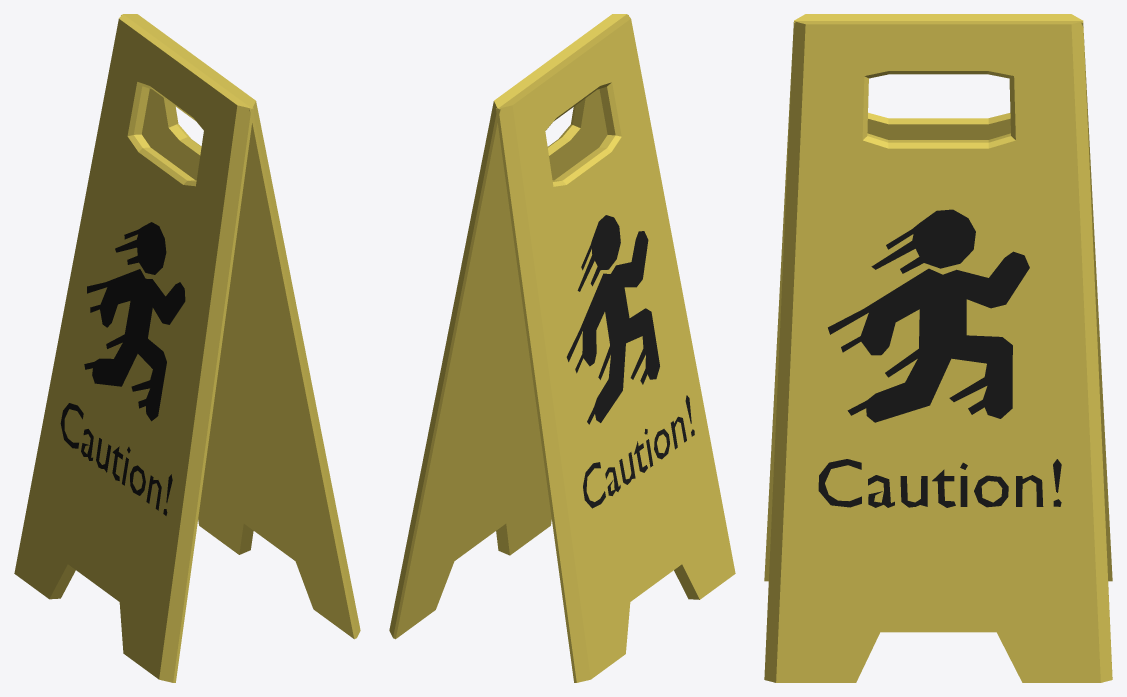
The model's file is Wet Floor Sign (1).glb.
3 views of the same model, side by side, from view 1: azimuth 30°, elevation 25°; view 2: azimuth 150°, elevation 25°; view 3: azimuth 270°, elevation 25° (orthographic). The views are drawn at different scales.
Parts seen in each view (by area): view 1: Cube; view 2: Cube; view 3: Cube.
Boxes of the visible parts, left/top/right/bottom form: Cube: left=14, top=14, right=360, bottom=682; Cube: left=389, top=14, right=735, bottom=682; Cube: left=764, top=14, right=1112, bottom=682.
Bounding box in the file's own units: 0.398 × 1.03 × 0.5306.
